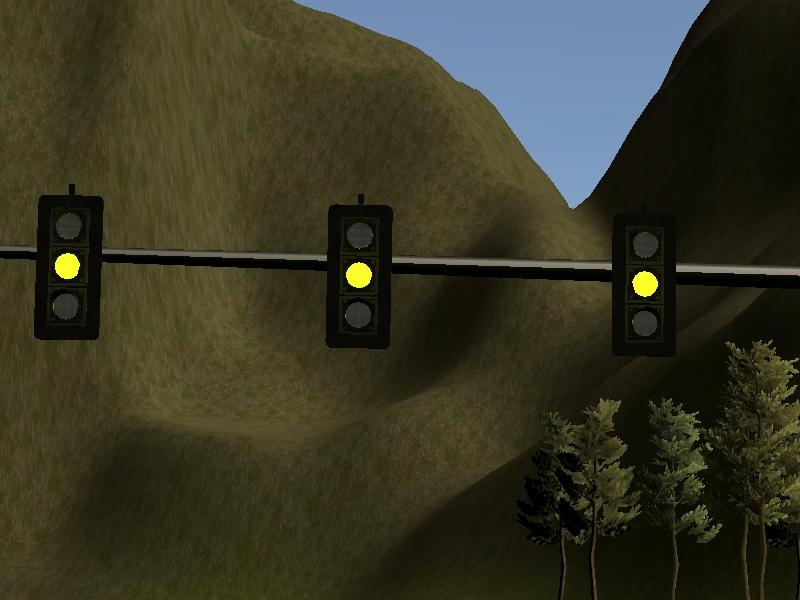YELLOW: (607, 215, 677, 362), (323, 202, 393, 349), (32, 193, 102, 340)
